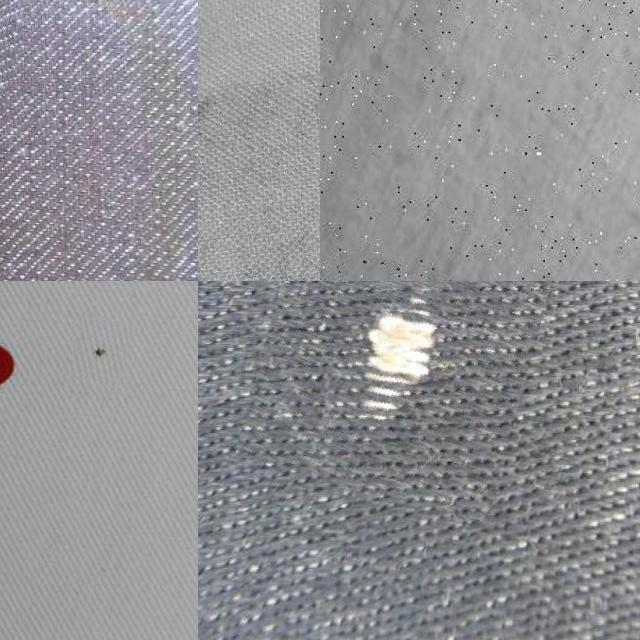Thread_other: (198, 40, 319, 281), (68, 315, 130, 387)
stains: (249, 281, 539, 508)
